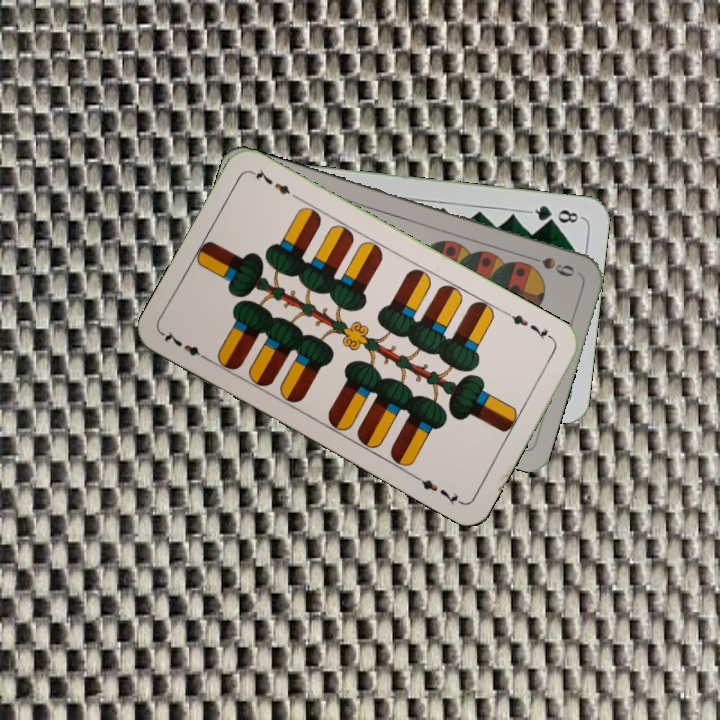E7: (503, 307, 557, 344), (159, 328, 213, 364)
G8: (525, 201, 584, 227)
S9: (521, 251, 578, 279)
